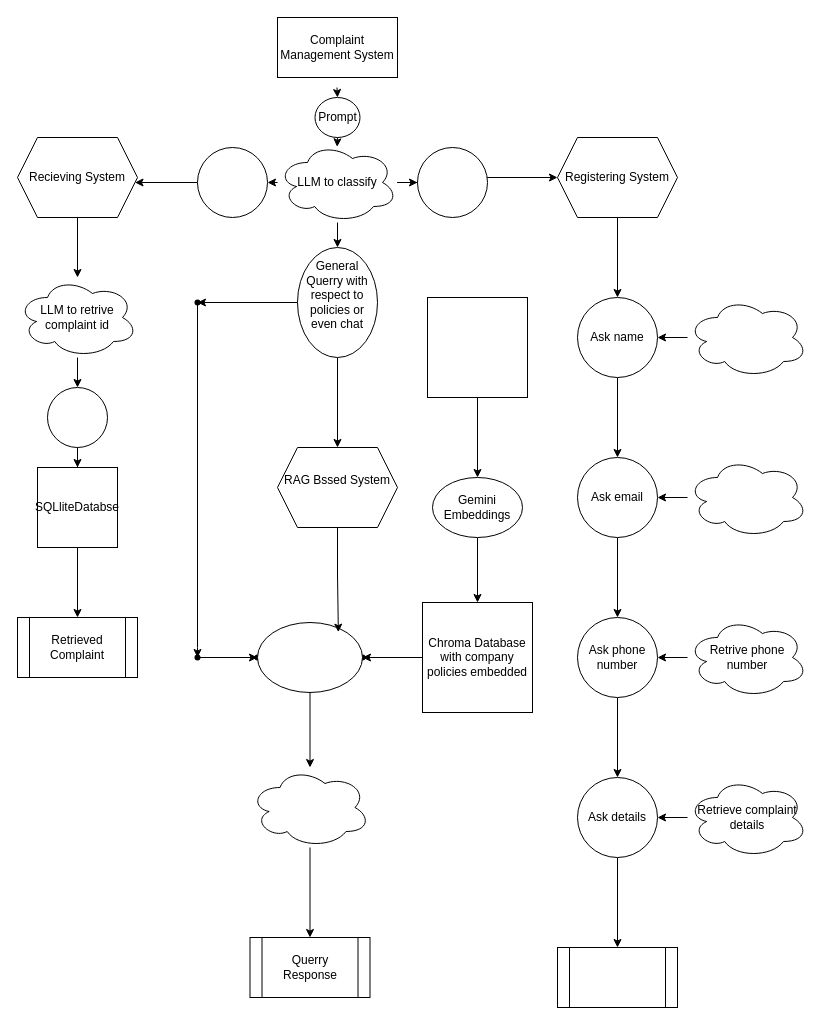
This 825x1025 diagram has some shape labels left out. Here are the shapes that lost their labels. From the top down, the box of each, then its label:
(196, 146, 268, 218): Retrieve an existing complaint
(416, 146, 488, 218): Register a new complaint
(426, 296, 528, 398): Raw Knowledge based pdf (Company Policies)
(686, 296, 808, 378): Retrieve name
(46, 386, 108, 448): Queery in databse
(686, 456, 808, 538): Retrieve email
(256, 622, 362, 692): RAG Bssed Prompt with querry and context
(249, 766, 370, 848): LLM for response
(556, 946, 678, 1008): Compliant registered with unique id
